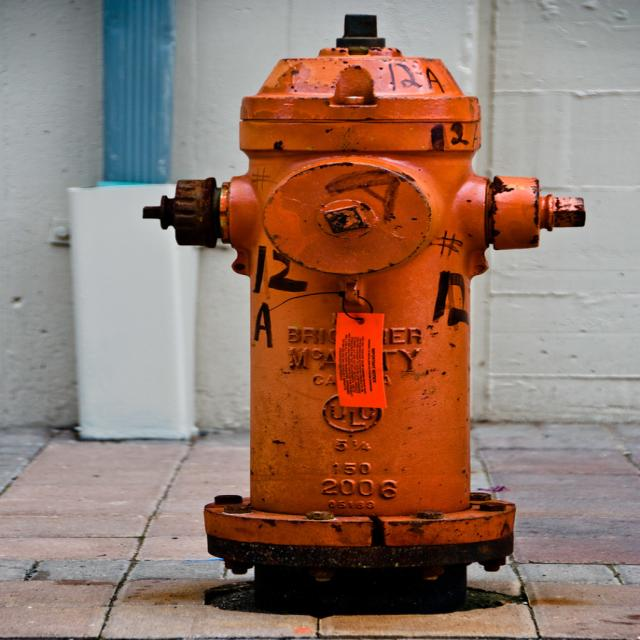fire_hydrant: (139, 13, 584, 614)
